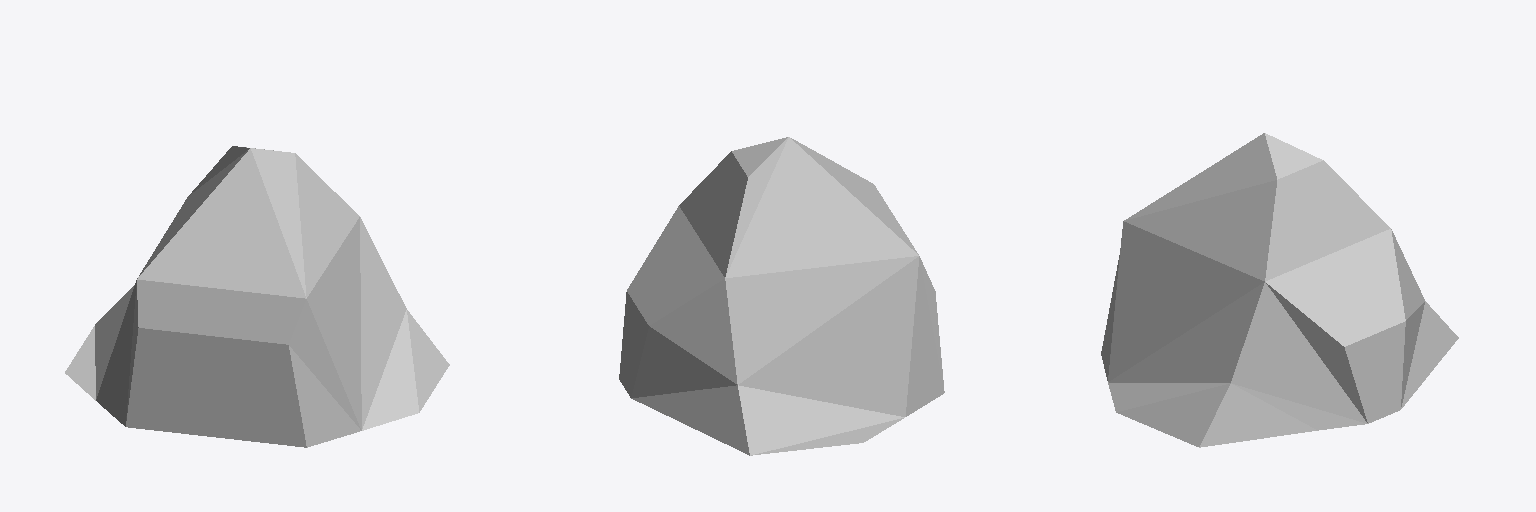
File: mLv1Rock06.obj
3 views of the same model, side by side, from view 1: azimuth 30°, elevation 25°; view 2: azimuth 150°, elevation 25°; view 3: azimuth 270°, elevation 25° (orthographic).
Visible parts, largest first — view 1: mStoneBolder9; view 2: mStoneBolder9; view 3: mStoneBolder9.
Boxes of the visible parts, box(x1,y1,x2,y2) form: mStoneBolder9: box(65, 146, 449, 447); mStoneBolder9: box(619, 137, 944, 455); mStoneBolder9: box(1101, 133, 1458, 447).
Size of the model in its own units: 6.62 by 4.82 by 6.69.